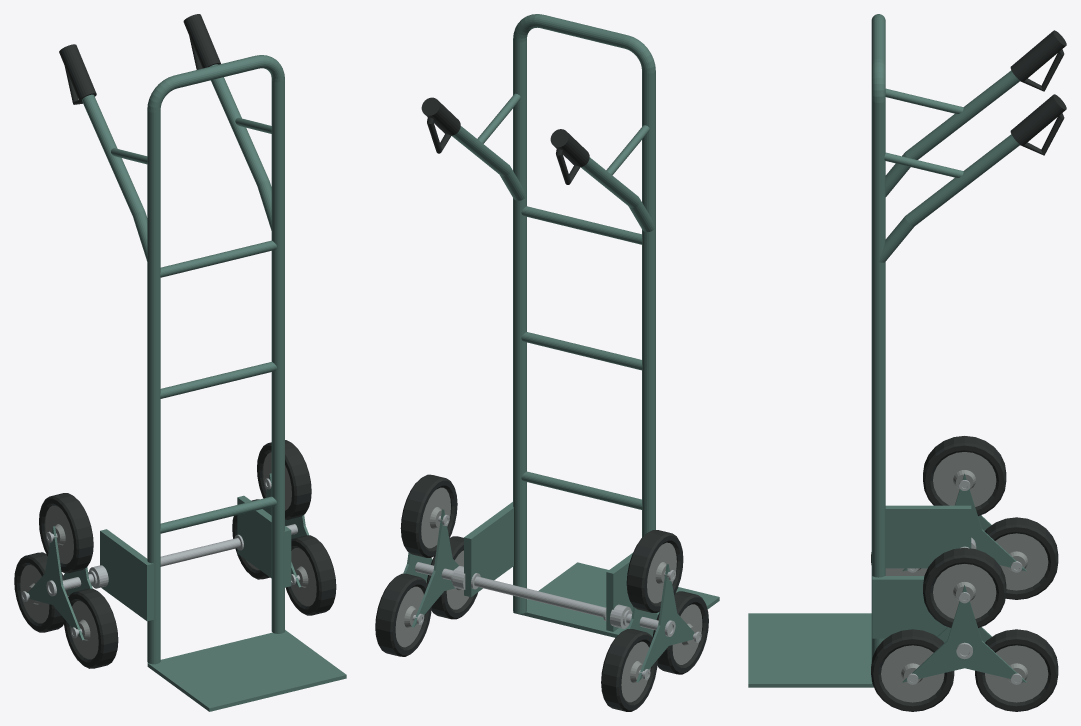
3 renders of one model, left to right at view 1: azimuth 30°, elevation 25°; view 2: azimuth 150°, elevation 25°; view 3: azimuth 270°, elevation 25°, orthographic. The views are drawn at different scales.
Visible parts, largest first — view 1: Main_load_frame_tube, Toe_plate_both_faces, Axle_bracket_web_-1, Axle_bracket_web_1, Tyre_-1_0, Tyre_-1_1, Handle_support_-1, Tyre_1_1, Handle_support_1, Tyre_1_0, Carrier_-1_outer, Tyre_-1_2 (+10 smaller); view 2: Main_load_frame_tube, Toe_plate_both_faces, Axle_bracket_web_1, Tyre_1_0, Tyre_1_2, Tyre_-1_0, Tyre_-1_2, Common_transverse_axle, Carrier_-1_outer, Carrier_1_inner, Tyre_-1_1, Handle_support_1 (+13 smaller); view 3: Toe_plate_both_faces, Main_load_frame_tube, Axle_bracket_web_-1, Axle_bracket_web_1, Carrier_1_outer, Tyre_1_0, Handle_support_1, Hub_-1_0, Hub_1_0, Tyre_1_2, Tyre_1_1, Tyre_-1_0 (+10 smaller).
Boxes of the visible parts, x1=… form: Main_load_frame_tube: x1=147, y1=55, x2=284, y2=664; Toe_plate_both_faces: x1=147, y1=630, x2=346, y2=711; Axle_bracket_web_-1: x1=100, y1=529, x2=153, y2=621; Axle_bracket_web_1: x1=237, y1=495, x2=291, y2=587; Tyre_-1_0: x1=39, y1=493, x2=93, y2=573; Tyre_-1_1: x1=63, y1=588, x2=118, y2=668; Handle_support_-1: x1=82, y1=94, x2=147, y2=261; Tyre_1_1: x1=286, y1=535, x2=336, y2=615; Handle_support_1: x1=210, y1=64, x2=272, y2=231; Tyre_1_0: x1=257, y1=440, x2=311, y2=519; Carrier_-1_outer: x1=28, y1=526, x2=84, y2=640; Tyre_-1_2: x1=14, y1=552, x2=68, y2=632; Main_load_frame_tube: x1=513, y1=14, x2=655, y2=636; Toe_plate_both_faces: x1=513, y1=562, x2=719, y2=637; Axle_bracket_web_1: x1=464, y1=502, x2=513, y2=596; Tyre_1_0: x1=400, y1=474, x2=457, y2=557; Tyre_1_2: x1=375, y1=573, x2=431, y2=656; Tyre_-1_0: x1=626, y1=530, x2=683, y2=612; Tyre_-1_2: x1=601, y1=629, x2=657, y2=711; Common_transverse_axle: x1=415, y1=562, x2=672, y2=633; Carrier_-1_outer: x1=636, y1=564, x2=694, y2=682; Carrier_1_inner: x1=412, y1=509, x2=458, y2=627; Tyre_-1_1: x1=652, y1=591, x2=708, y2=674; Handle_support_1: x1=452, y1=126, x2=525, y2=200; Toe_plate_both_faces: x1=748, y1=613, x2=873, y2=687; Main_load_frame_tube: x1=871, y1=14, x2=885, y2=680; Axle_bracket_web_-1: x1=885, y1=505, x2=971, y2=568; Axle_bracket_web_1: x1=872, y1=576, x2=947, y2=638; Carrier_1_outer: x1=902, y1=585, x2=1026, y2=682; Tyre_1_0: x1=923, y1=547, x2=1006, y2=627; Handle_support_1: x1=879, y1=134, x2=1019, y2=262; Hub_-1_0: x1=933, y1=452, x2=996, y2=506; Hub_1_0: x1=933, y1=564, x2=996, y2=618; Tyre_1_2: x1=975, y1=629, x2=1058, y2=711; Tyre_1_1: x1=871, y1=629, x2=954, y2=711; Tyre_-1_0: x1=923, y1=436, x2=1006, y2=515.
Bounding box in the file's own units: 0.59 × 1.3 × 0.6106.
